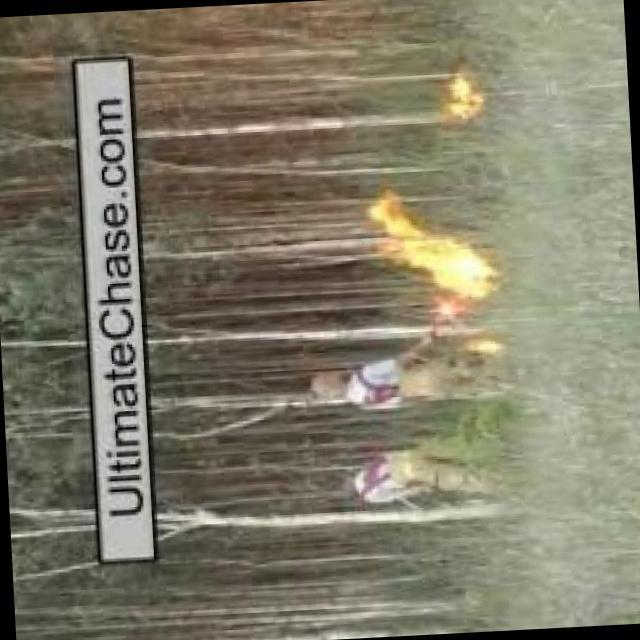Fire: (372, 188, 505, 309), (438, 62, 497, 130)
